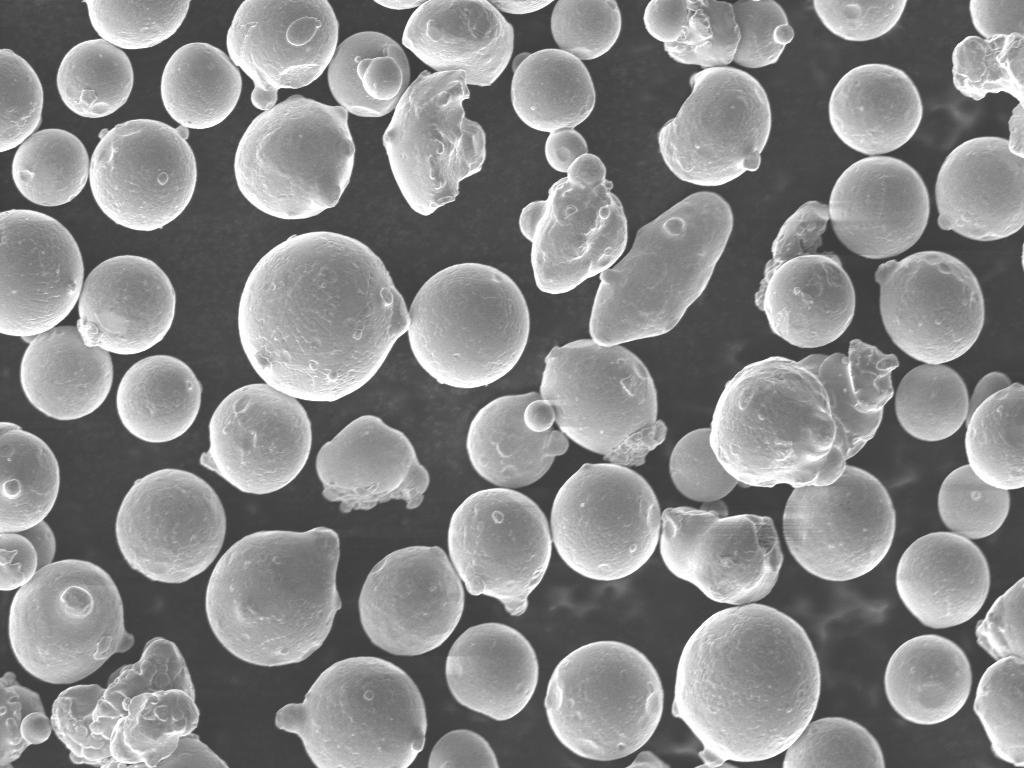Powder: (238, 232, 410, 401), (710, 340, 898, 487), (674, 604, 820, 762), (52, 638, 226, 767), (590, 192, 734, 346), (206, 528, 342, 665), (524, 340, 666, 465), (276, 656, 426, 767), (8, 560, 134, 684), (382, 70, 486, 215), (520, 154, 628, 293), (408, 264, 530, 387), (234, 94, 354, 219), (756, 200, 856, 348), (544, 642, 664, 760), (658, 66, 770, 186), (782, 466, 896, 580), (660, 500, 784, 603), (550, 464, 660, 580), (450, 490, 552, 614), (874, 250, 984, 364), (116, 470, 226, 583), (226, 0, 338, 110), (200, 384, 312, 493), (90, 120, 196, 230), (358, 546, 464, 655), (316, 416, 430, 512), (0, 210, 84, 335), (510, 50, 596, 172), (830, 156, 930, 258), (644, 0, 794, 68), (0, 422, 60, 589), (466, 392, 568, 488), (78, 256, 176, 354), (402, 0, 514, 85), (974, 578, 1024, 766), (936, 136, 1024, 241), (952, 32, 1024, 157), (896, 532, 990, 627), (20, 326, 114, 419), (448, 622, 536, 720), (828, 64, 922, 155), (884, 634, 972, 724), (116, 356, 202, 442), (160, 42, 242, 129), (328, 32, 410, 117), (966, 382, 1024, 489), (56, 40, 134, 118), (12, 130, 90, 206), (894, 364, 968, 441), (938, 466, 1010, 540), (782, 718, 884, 768), (670, 428, 738, 502), (86, 1, 190, 49), (0, 672, 52, 765), (0, 50, 44, 151), (550, 0, 622, 60), (814, 0, 906, 40), (428, 730, 498, 768), (968, 372, 1012, 423), (970, 0, 1024, 38), (490, 1, 554, 14), (374, 1, 426, 10)
